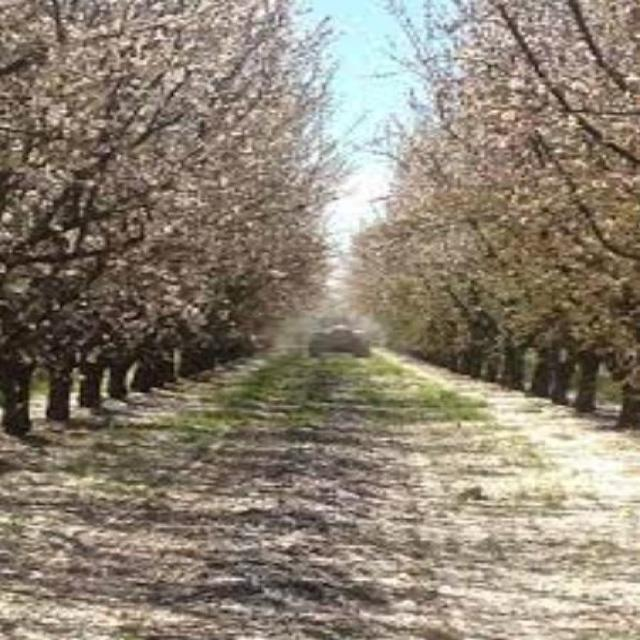row: (0, 348, 639, 640)
